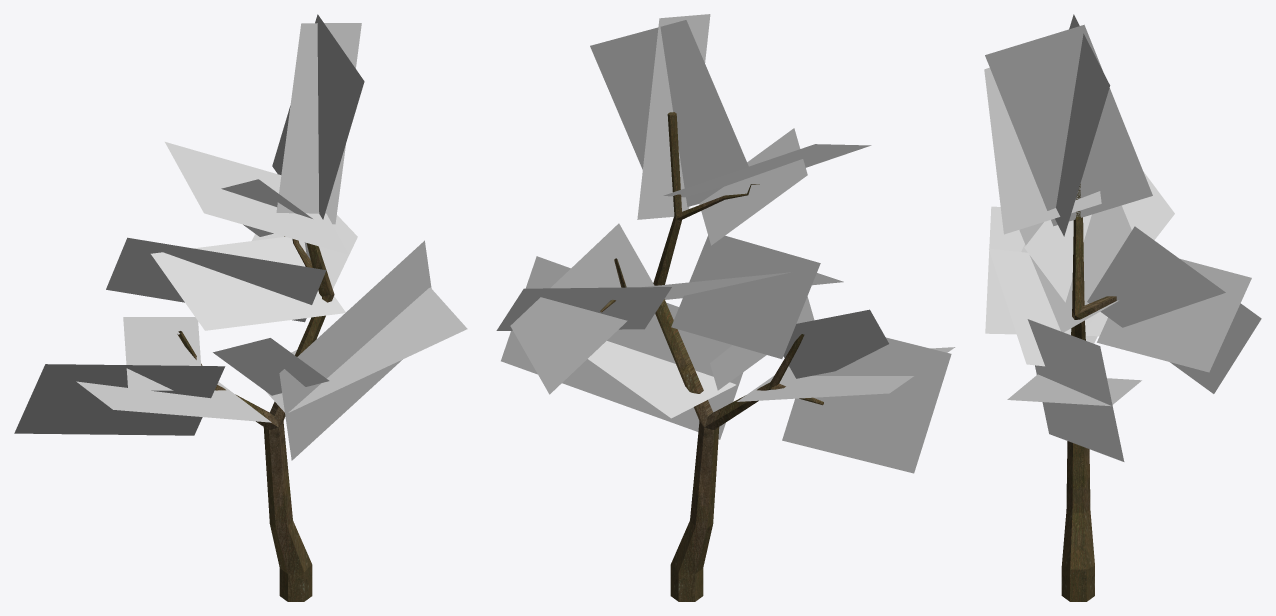
The model's file is LowPoly Trees.fbx.
3 renders of one model, left to right at view 1: azimuth 30°, elevation 25°; view 2: azimuth 150°, elevation 25°; view 3: azimuth 270°, elevation 25°, orthographic.
Visible parts, largest first — view 1: Plane.001, Cylinder; view 2: Plane.001, Cylinder; view 3: Plane.001, Cylinder.
Part boxes in pixels (<box>): Plane.001: <box>14,14,467,460</box>; Cylinder: <box>177,236,334,601</box>; Plane.001: <box>496,14,955,473</box>; Cylinder: <box>600,112,823,601</box>; Plane.001: <box>984,14,1261,461</box>; Cylinder: <box>1061,184,1116,601</box>.
Bounding box in the file's own units: 937 × 1220 × 526.
